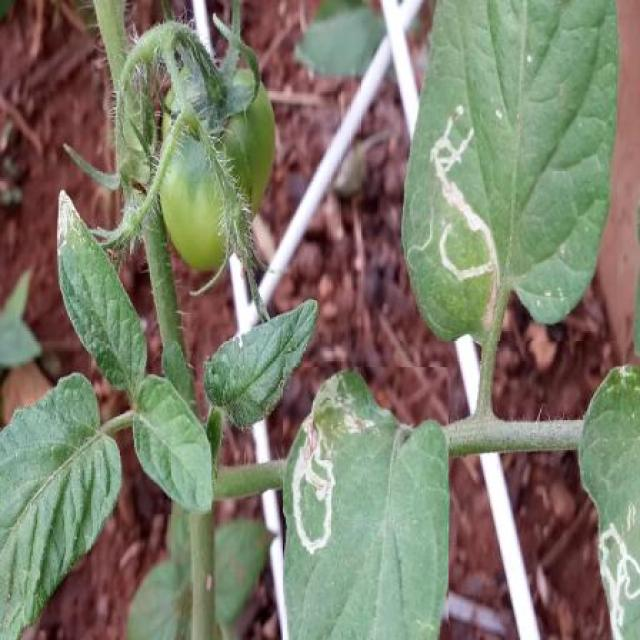Healthy: (135, 369, 212, 514)
Leaf Miner: (397, 0, 617, 340), (282, 367, 449, 640)
